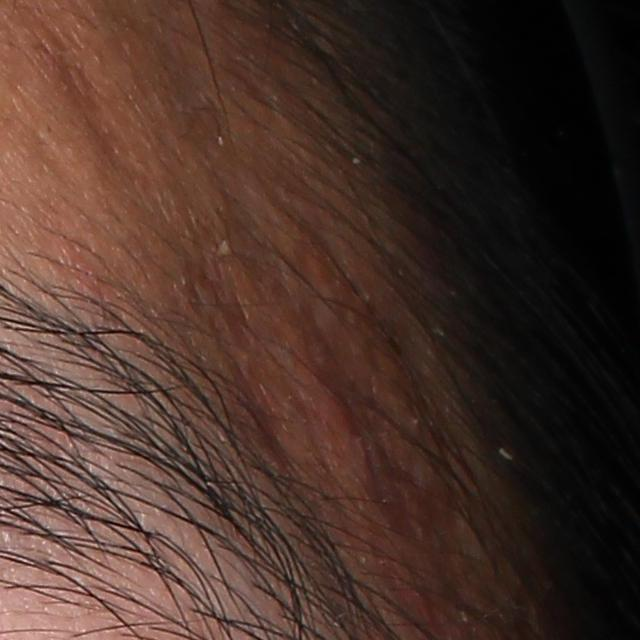atrophic_scar: (154, 42, 426, 556), (40, 49, 118, 127)
papule: (303, 366, 365, 452)
